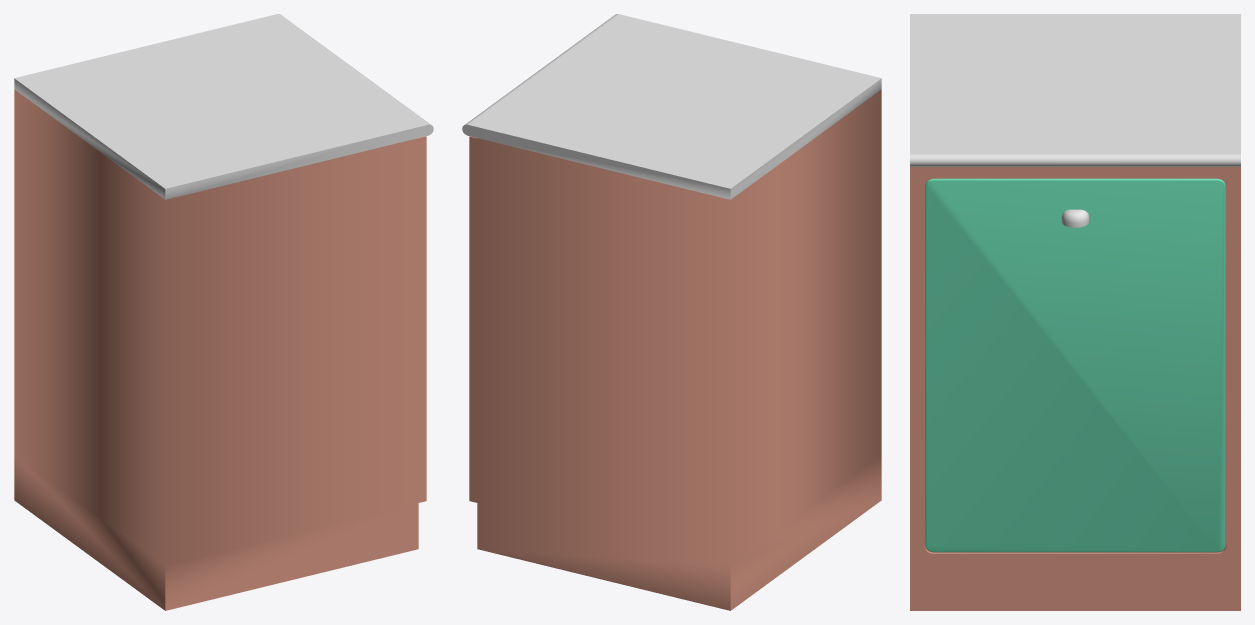
Rendered from Counter_Dishwasher.fbx.
3 renders of one model, left to right at view 1: azimuth 30°, elevation 25°; view 2: azimuth 150°, elevation 25°; view 3: azimuth 270°, elevation 25°, orthographic. The views are drawn at different scales.
Parts seen in each view (by area): view 1: Counter_Dishwasher, Counter_Dishwasher_Door; view 2: Counter_Dishwasher, Counter_Dishwasher_Door; view 3: Counter_Dishwasher_Door, Counter_Dishwasher.
Part boxes in pixels (<box>): Counter_Dishwasher: <box>14,14,433,610</box>; Counter_Dishwasher_Door: <box>418,136,426,502</box>; Counter_Dishwasher: <box>462,14,881,610</box>; Counter_Dishwasher_Door: <box>469,136,477,502</box>; Counter_Dishwasher_Door: <box>911,167,1239,565</box>; Counter_Dishwasher: <box>910,14,1240,610</box>.
Size of what is drawn, in the model's own units: 625 by 600 by 924.
